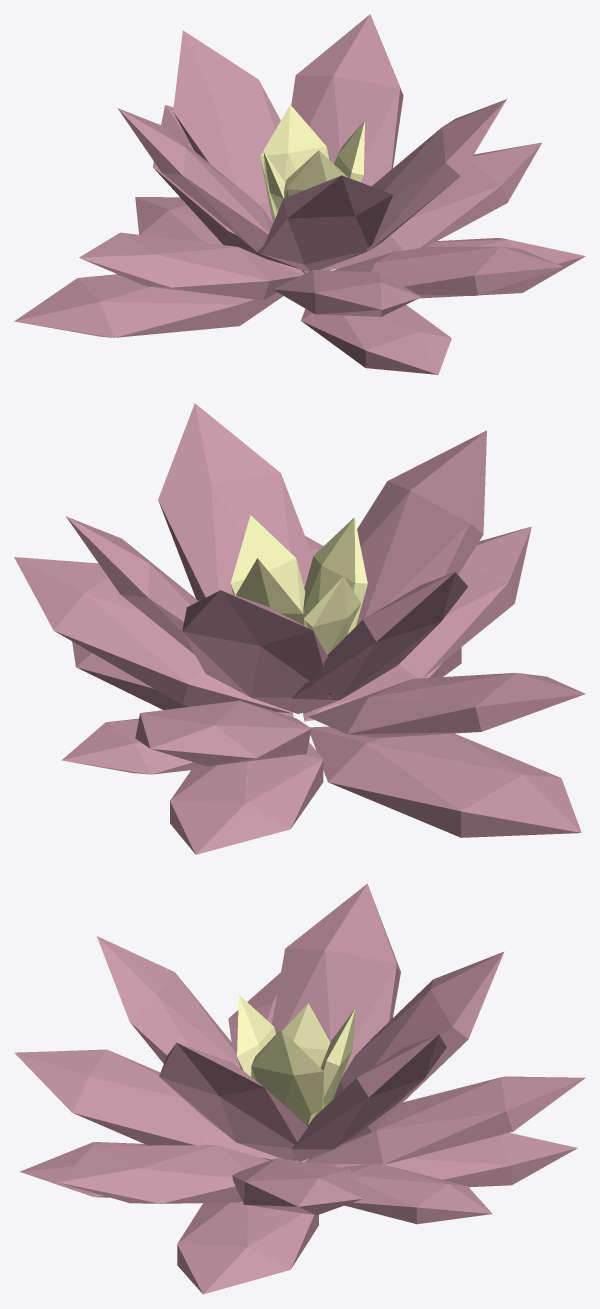
File: water_lily_item.fbx
3 renders of one model, top to bottom at view 1: azimuth 30°, elevation 25°; view 2: azimuth 150°, elevation 25°; view 3: azimuth 270°, elevation 25°, orthographic. The views are drawn at different scales.
Visible parts, largest first — view 1: pPlatonic20; view 2: pPlatonic20; view 3: pPlatonic20.
Part boxes in pixels (box(x1,y1,x2,y2)): pPlatonic20: box(14, 14, 585, 374); pPlatonic20: box(14, 403, 585, 854); pPlatonic20: box(14, 883, 585, 1294).
Bounding box in the file's own units: 0.3515 × 0.1393 × 0.3241.
